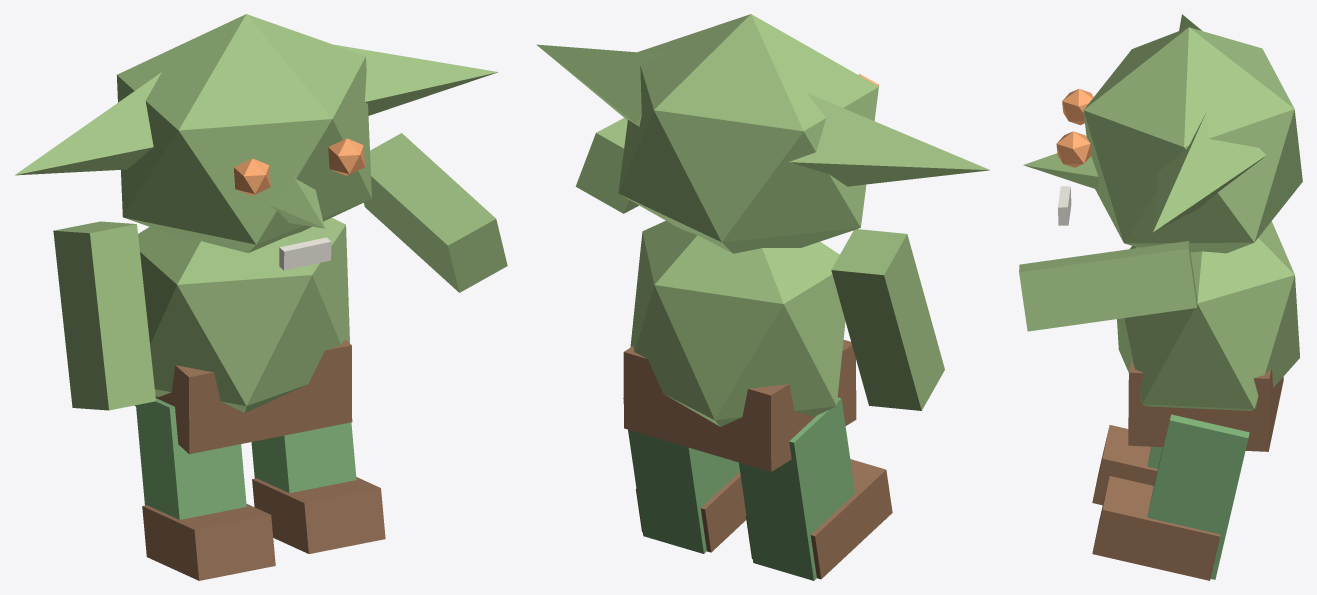
File: npcpose_goblin_attack_02.glb
3 views of the same model, side by side, from view 1: azimuth 30°, elevation 25°; view 2: azimuth 150°, elevation 25°; view 3: azimuth 270°, elevation 25° (orthographic). The views are drawn at different scales.
Parts seen in each view (by area): view 1: npcpose; view 2: npcpose; view 3: npcpose.
Part boxes in pixels (x1=…): npcpose: x1=15, y1=14, x2=507, y2=580; npcpose: x1=536, y1=14, x2=990, y2=580; npcpose: x1=1019, y1=14, x2=1302, y2=580.
Bounding box in the file's own units: 1.03 × 1.12 × 0.5635.
